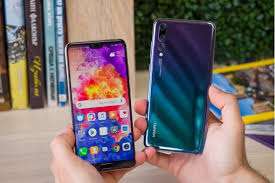huawei: (142, 16, 216, 156), (64, 35, 136, 171)
